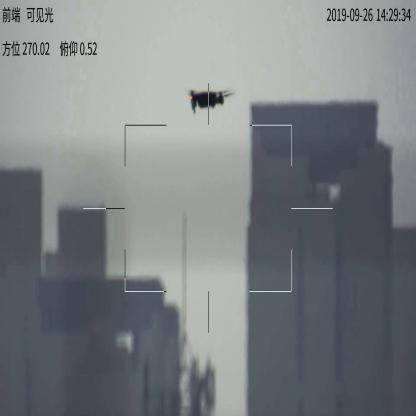uav: (183, 87, 232, 111)
